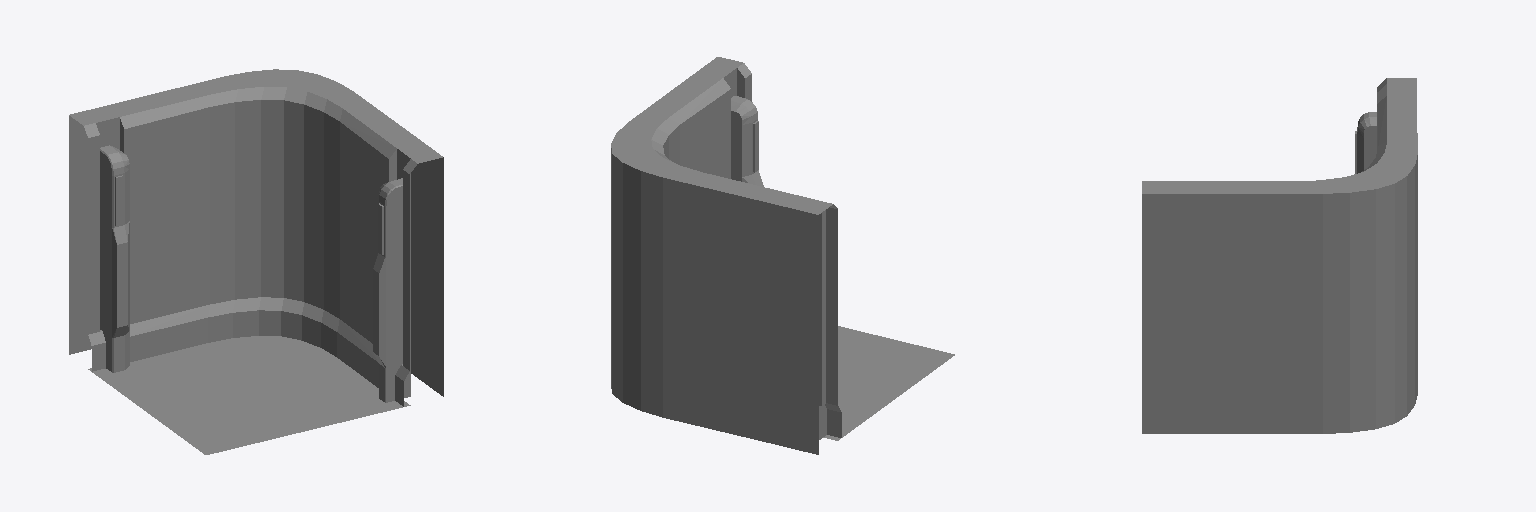
File: wallOuter_Corner.obj
The picture shows the model from 3 angles: view 1: azimuth 30°, elevation 25°; view 2: azimuth 150°, elevation 25°; view 3: azimuth 270°, elevation 25°; orthographic projection.
Visible parts, largest first — view 1: floor_outer_corner; view 2: floor_outer_corner; view 3: floor_outer_corner.
Part boxes in pixels (bbox=[...]): floor_outer_corner: bbox=[69, 69, 443, 454]; floor_outer_corner: bbox=[611, 57, 954, 454]; floor_outer_corner: bbox=[1142, 78, 1417, 433].
Size of the model in its own units: 2.91 by 2.8 by 2.91.